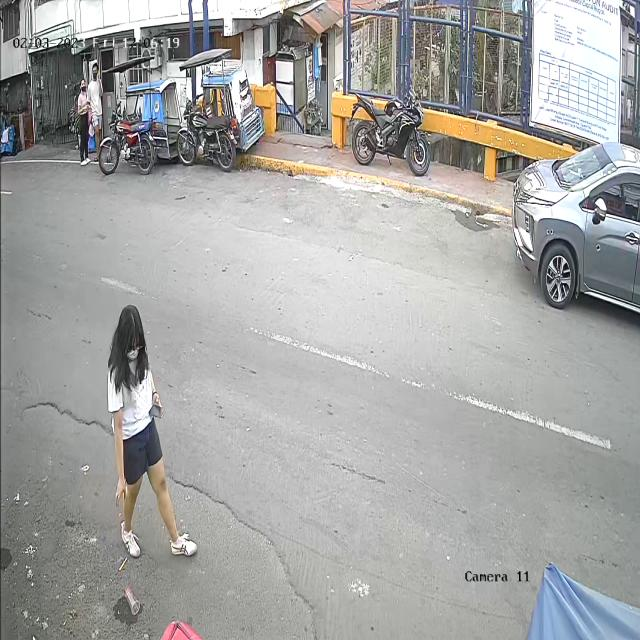human: (108, 305, 198, 616)
trash: (122, 580, 143, 620)
